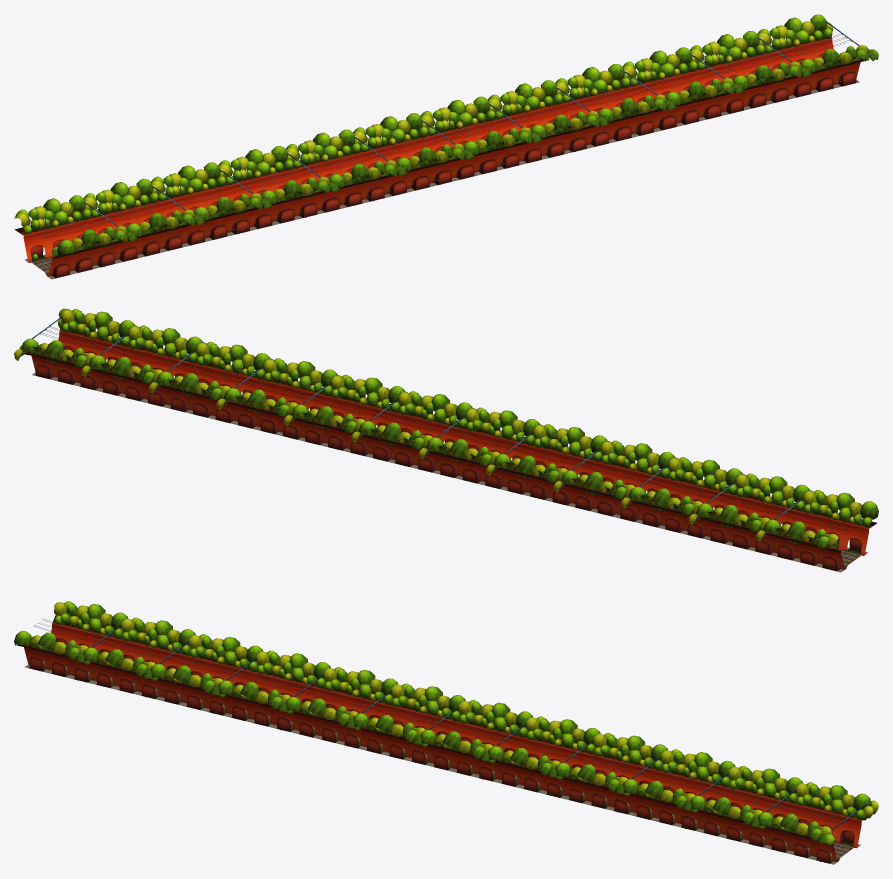
The model's file is mapa2.gltf.
3 renders of one model, top to bottom at view 1: azimuth 30°, elevation 25°; view 2: azimuth 150°, elevation 25°; view 3: azimuth 330°, elevation 25°, orthographic.
Parts seen in each view (by area): view 1: Object_13.001, Object_14, Object_12.001, Object_12, Object_14.001, Object_13; view 2: Object_13.001, Object_14, Object_12, Object_14.001, Object_12.001, Object_13; view 3: Object_14, Object_13.001, Object_12, Object_13, Object_12.001, Object_14.001.
Part boxes in pixels (x1=…): Object_13.001: x1=14, y1=179, x2=204, y2=279; Object_14: x1=690, y1=14, x2=878, y2=114; Object_12.001: x1=151, y1=146, x2=339, y2=246; Object_12: x1=555, y1=47, x2=743, y2=147; Object_14.001: x1=286, y1=113, x2=474, y2=213; Object_13: x1=420, y1=80, x2=608, y2=180; Object_13.001: x1=688, y1=473, x2=878, y2=572; Object_14: x1=14, y1=308, x2=202, y2=407; Object_12: x1=149, y1=341, x2=337, y2=440; Object_14.001: x1=418, y1=407, x2=607, y2=506; Object_12.001: x1=553, y1=440, x2=742, y2=539; Object_13: x1=284, y1=374, x2=472, y2=473; Object_14: x1=690, y1=765, x2=878, y2=864; Object_13.001: x1=14, y1=601, x2=195, y2=699; Object_12: x1=555, y1=733, x2=735, y2=831; Object_13: x1=420, y1=700, x2=600, y2=798; Object_12.001: x1=150, y1=634, x2=330, y2=732; Object_14.001: x1=285, y1=667, x2=465, y2=765.
Size of the model in its own units: 528 by 29.8 by 62.72.
1 material, 1 textured.
